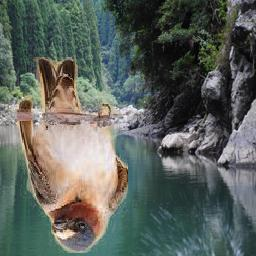Swallow: (18, 57, 129, 253)
